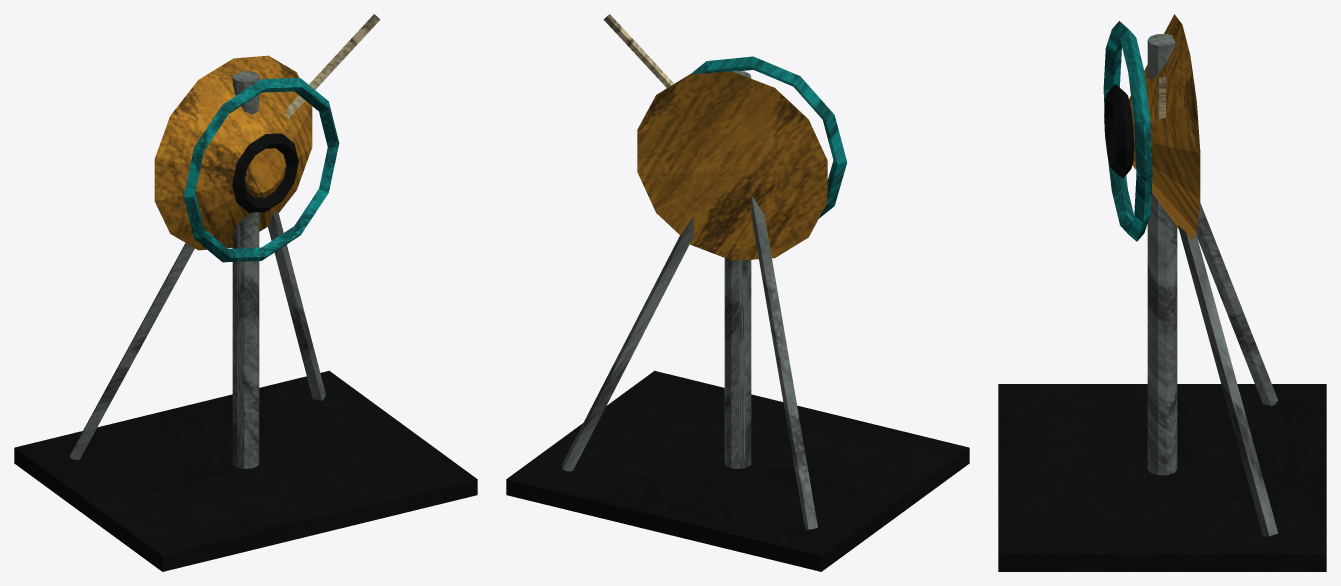
File: east-rim-solar-witness.glb
The picture shows the model from 3 angles, left to right: view 1: azimuth 30°, elevation 25°; view 2: azimuth 150°, elevation 25°; view 3: azimuth 270°, elevation 25°; orthographic projection. The views are drawn at different scales.
Parts seen in each view (by area): view 1: east-rim-solar-witness; view 2: east-rim-solar-witness; view 3: east-rim-solar-witness.
Boxes of the visible parts, <box> form: east-rim-solar-witness: <box>14,14,477,571</box>; east-rim-solar-witness: <box>506,14,969,571</box>; east-rim-solar-witness: <box>998,14,1326,571</box>.
Size of the model in its own units: 5.4 by 7.09 by 4.4.
1 material, 1 textured.
